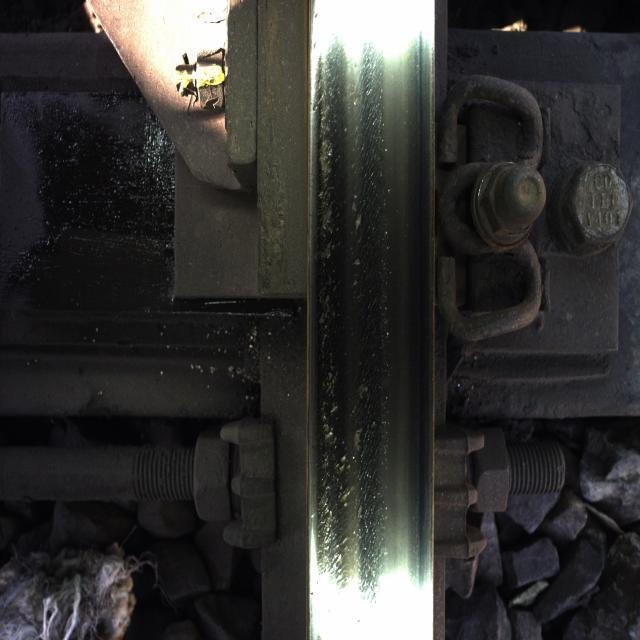scar: (308, 50, 388, 580)
